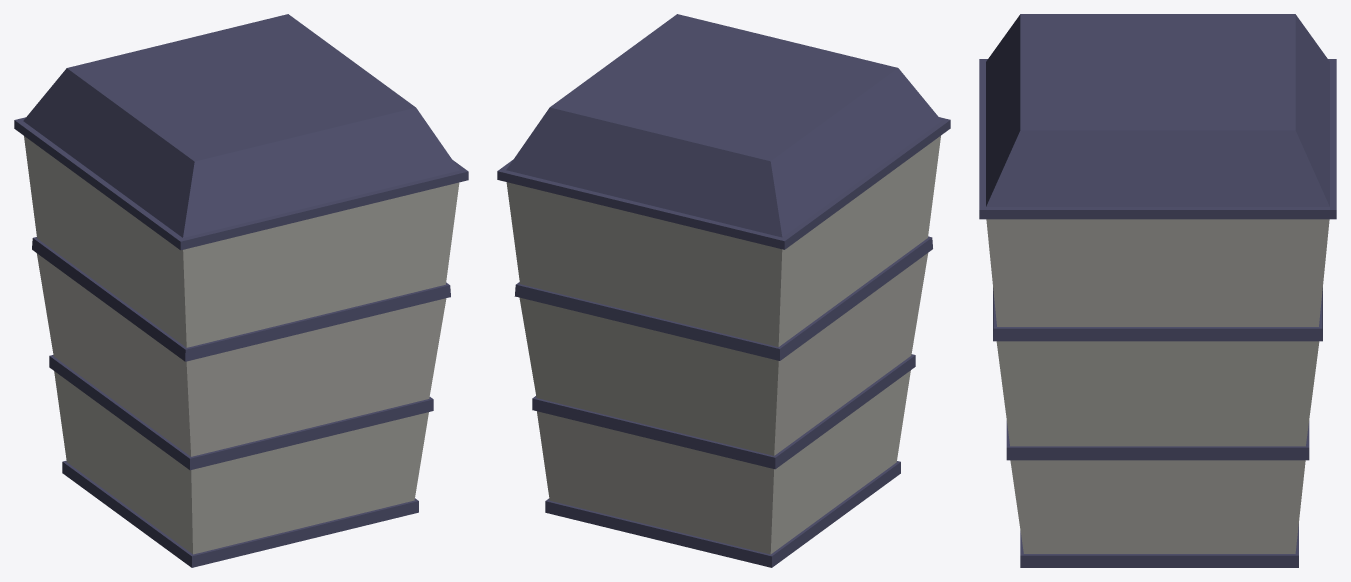
The model's file is paris_building_scaled_tall_02.fbx.
3 views of the same model, side by side, from view 1: azimuth 30°, elevation 25°; view 2: azimuth 150°, elevation 25°; view 3: azimuth 270°, elevation 25° (orthographic). The views are drawn at different scales.
Visible parts, largest first — view 1: Cube-convcol; view 2: Cube-convcol; view 3: Cube-convcol.
Part boxes in pixels (x1,y1,x2,y2): Cube-convcol: (14, 14, 468, 567); Cube-convcol: (497, 14, 950, 567); Cube-convcol: (979, 14, 1336, 567).
Bounding box in the file's own units: 1040 × 1400 × 1040.
